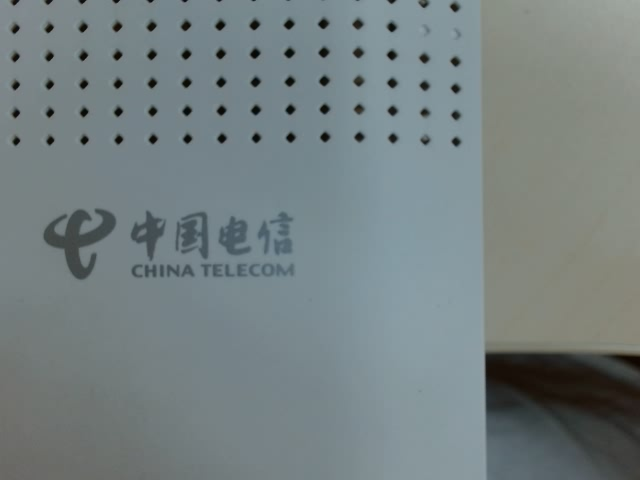AB_ChinaTelecom: (36, 186, 307, 294)
